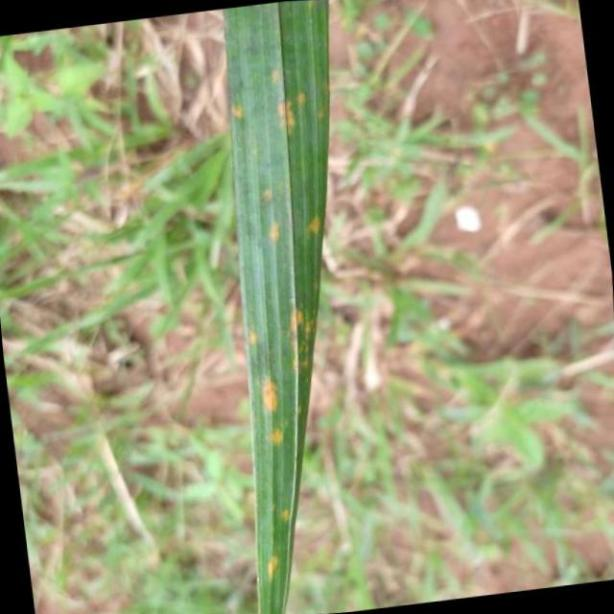Kalium: (224, 0, 328, 614)
